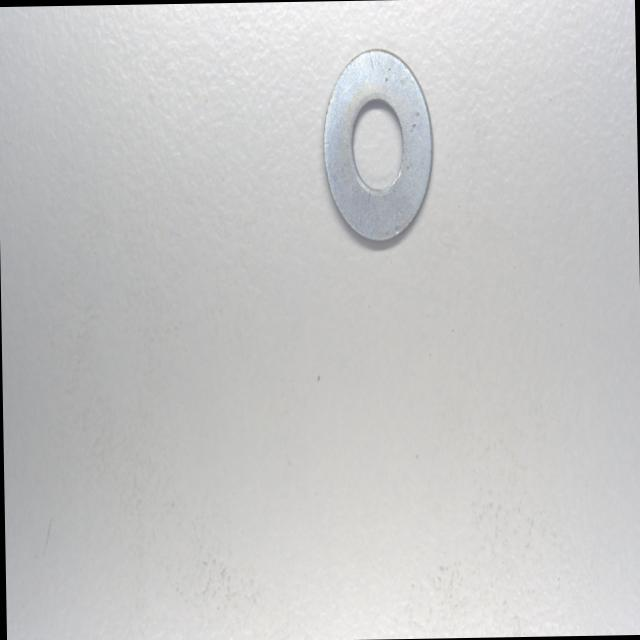washer: (318, 44, 433, 243)
